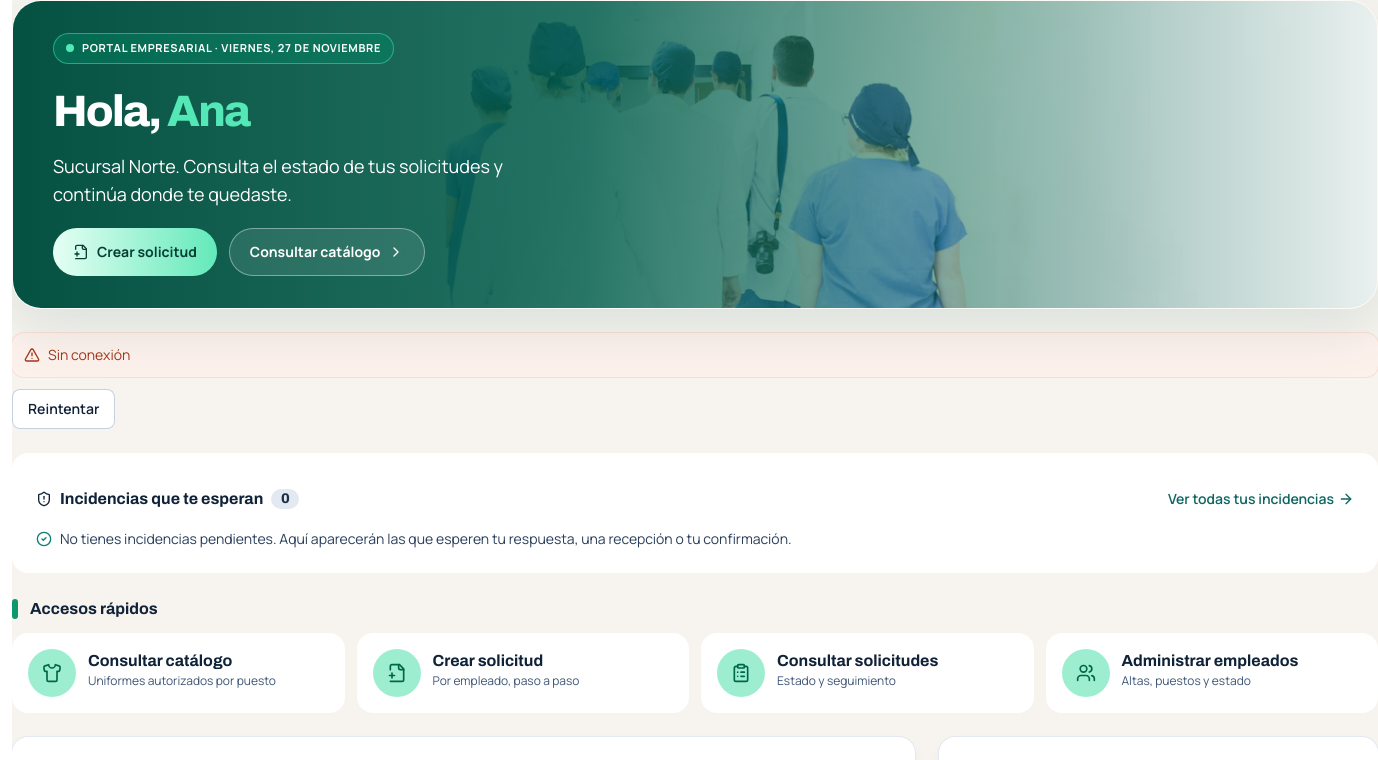
Test case: si falla el resumen muestra el error y permite reintentar
Expected: the message reads "Sin conexión", left=48, top=344, right=130, bottom=364
Click the button "Reintentar" at (64, 408), box left=12, top=388, right=115, bottom=428
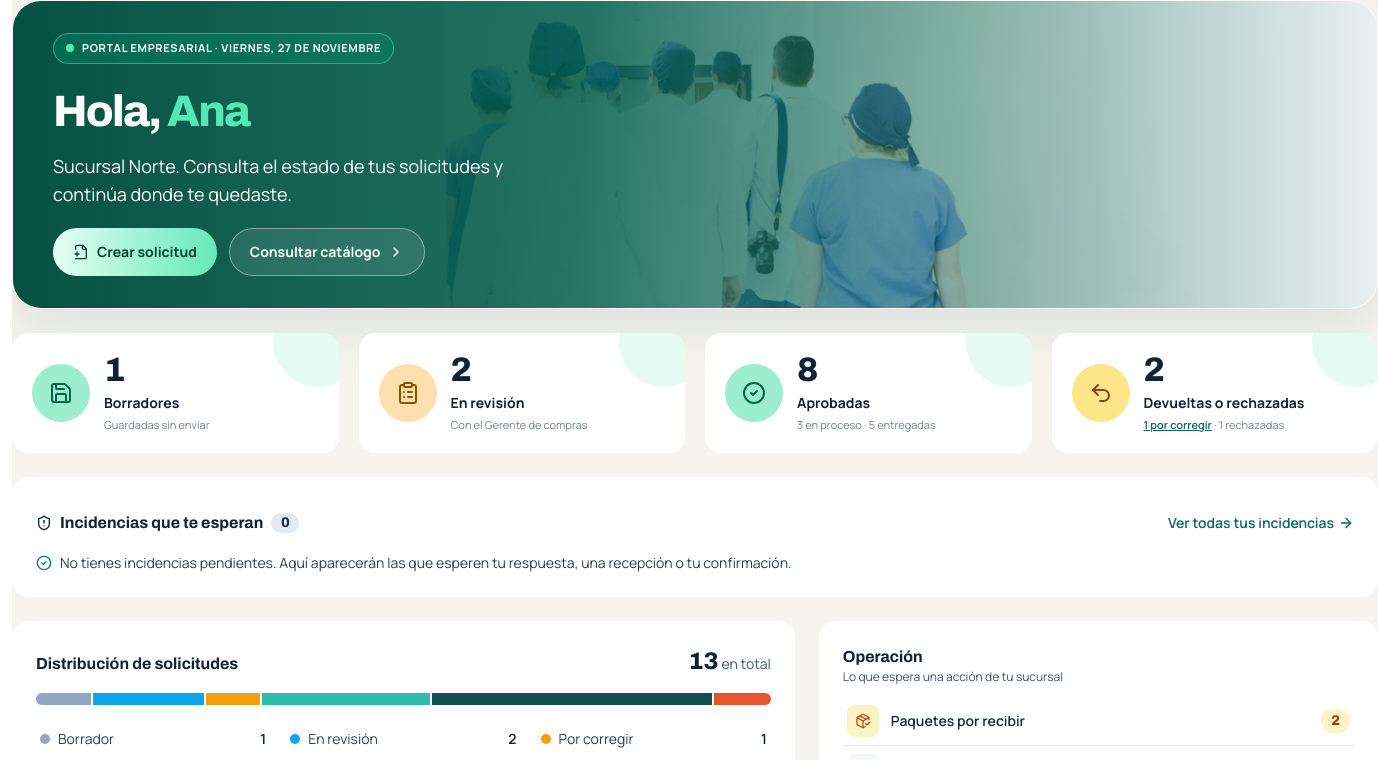
Expected: the element named "Estado de tus solicitudes" is shown, left=12, top=332, right=1377, bottom=453
